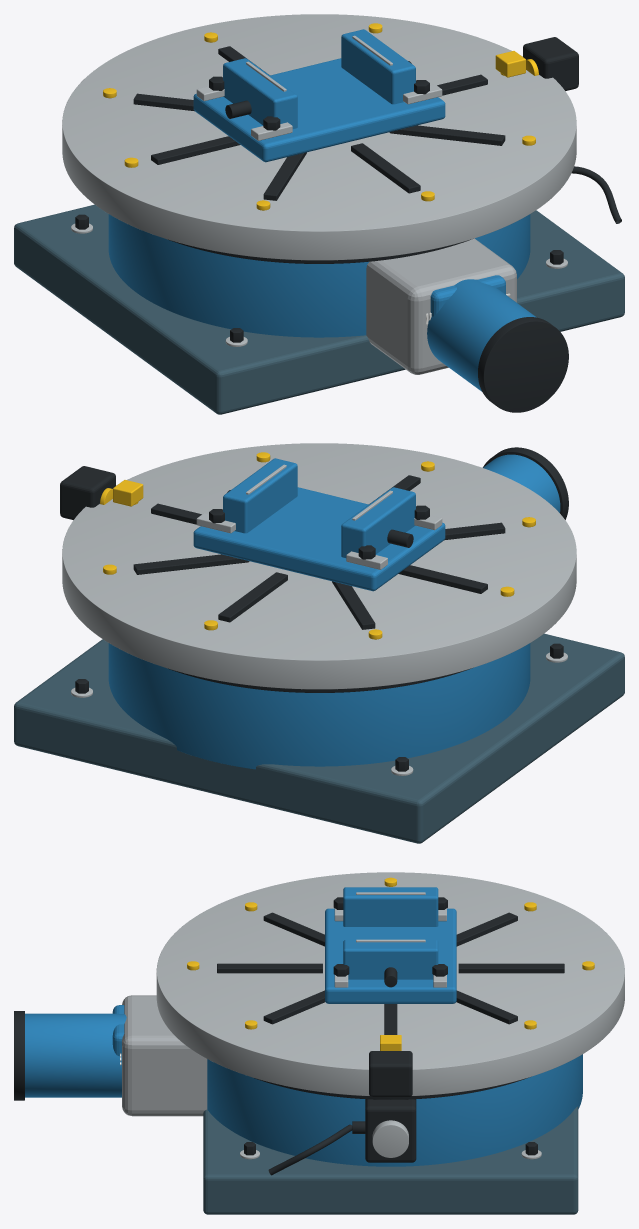
The model's file is powered_rotary_table.glb.
3 views of the same model, one above another, from view 1: azimuth 30°, elevation 25°; view 2: azimuth 150°, elevation 25°; view 3: azimuth 270°, elevation 25° (orthographic). The views are drawn at different scales.
Visible parts, largest first — view 1: TABLE_rotating_platter, TABLE_base, TABLE_housing, TABLE_fixture_plate, TABLE_drive_gearbox, TABLE_motor_fan, TABLE_drive_motor, TABLE_fixture_jaw_0.34, TABLE_fixture_jaw_-0.34, TABLE_index_sensor, TABLE_radial_slot_7, TABLE_radial_slot_6 (+8 smaller); view 2: TABLE_rotating_platter, TABLE_base, TABLE_housing, TABLE_fixture_plate, TABLE_fixture_jaw_0.34, TABLE_fixture_jaw_-0.34, TABLE_index_sensor, TABLE_drive_motor, TABLE_radial_slot_1, TABLE_radial_slot_2, TABLE_motor_fan, TABLE_radial_slot_4 (+5 smaller); view 3: TABLE_rotating_platter, TABLE_base, TABLE_housing, TABLE_drive_gearbox, TABLE_drive_motor, TABLE_fixture_plate, TABLE_fixture_jaw_-0.34, TABLE_fixture_jaw_0.34, TABLE_encoder, TABLE_index_sensor, TABLE_radial_slot_2, TABLE_radial_slot_6 (+8 smaller).
Part boxes in pixels (x1,y1,x2,y2): TABLE_rotating_platter: [62, 14, 576, 260]; TABLE_base: [14, 204, 624, 414]; TABLE_housing: [108, 214, 530, 337]; TABLE_fixture_plate: [193, 58, 445, 162]; TABLE_drive_gearbox: [366, 238, 516, 374]; TABLE_motor_fan: [478, 317, 568, 412]; TABLE_drive_motor: [427, 279, 536, 391]; TABLE_fixture_jaw_0.34: [341, 29, 415, 104]; TABLE_fixture_jaw_-0.34: [223, 58, 297, 128]; TABLE_index_sensor: [523, 37, 578, 90]; TABLE_radial_slot_7: [389, 125, 505, 145]; TABLE_radial_slot_6: [351, 143, 420, 193]; TABLE_rotating_platter: [62, 443, 576, 689]; TABLE_base: [14, 633, 624, 843]; TABLE_housing: [108, 643, 530, 769]; TABLE_fixture_plate: [193, 487, 445, 591]; TABLE_fixture_jaw_0.34: [223, 458, 297, 533]; TABLE_fixture_jaw_-0.34: [341, 487, 415, 557]; TABLE_index_sensor: [60, 466, 115, 519]; TABLE_drive_motor: [483, 454, 560, 512]; TABLE_radial_slot_1: [133, 554, 249, 574]; TABLE_radial_slot_2: [218, 572, 287, 622]; TABLE_motor_fan: [483, 447, 568, 519]; TABLE_radial_slot_4: [398, 565, 487, 593]; TABLE_rotating_platter: [156, 872, 624, 1095]; TABLE_base: [203, 1106, 578, 1214]; TABLE_housing: [207, 1054, 582, 1166]; TABLE_drive_gearbox: [122, 995, 207, 1116]; TABLE_drive_motor: [25, 1013, 126, 1097]; TABLE_fixture_plate: [325, 908, 456, 1003]; TABLE_fixture_jaw_-0.34: [343, 887, 438, 926]; TABLE_fixture_jaw_0.34: [343, 940, 438, 979]; TABLE_encoder: [365, 1099, 416, 1162]; TABLE_index_sensor: [369, 1051, 412, 1096]; TABLE_radial_slot_2: [458, 963, 564, 973]; TABLE_radial_slot_6: [217, 963, 322, 973].
Size of the model in its own units: 2.71 by 1.26 by 3.34.
